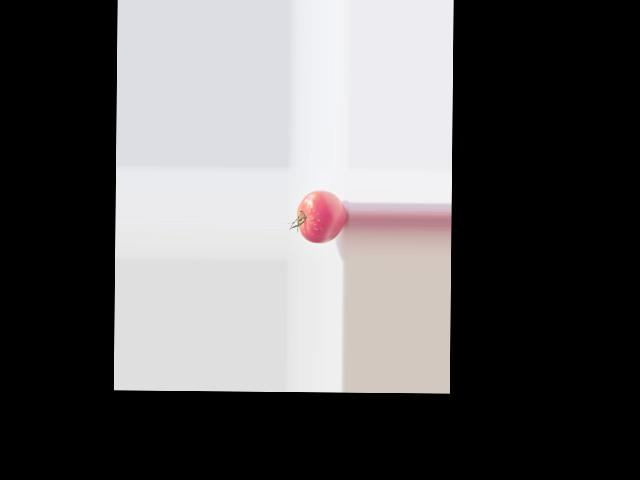tomato: (297, 189, 347, 243)
